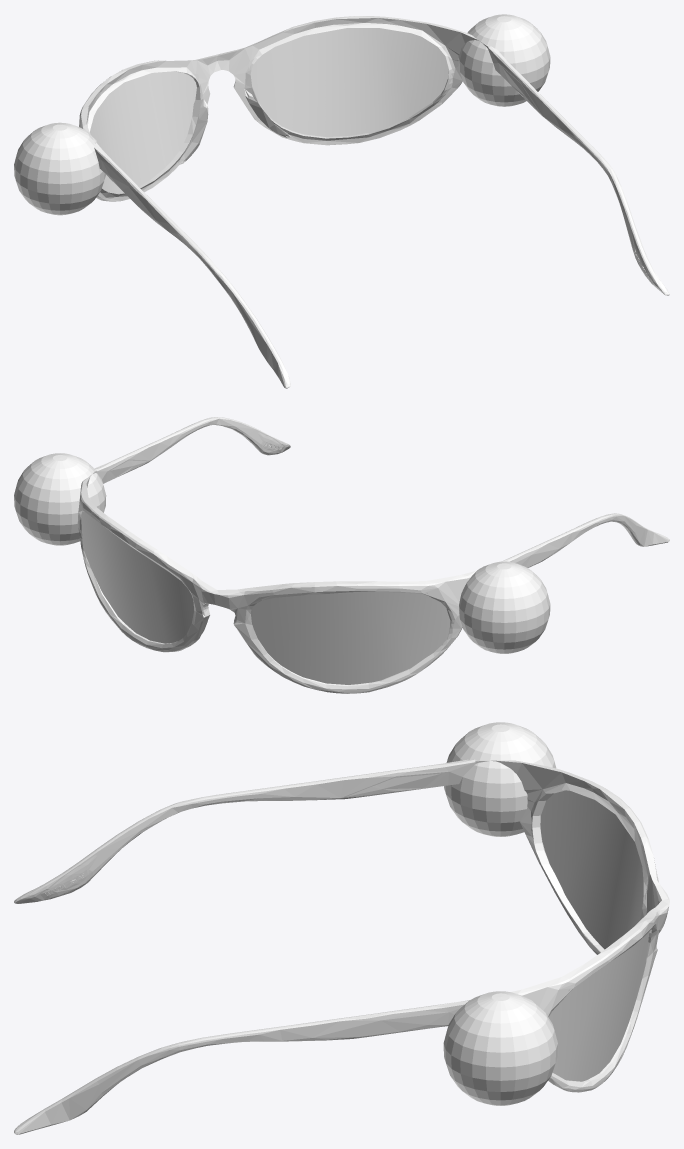
File: glasses.obj
3 renders of one model, top to bottom at view 1: azimuth 30°, elevation 25°; view 2: azimuth 150°, elevation 25°; view 3: azimuth 270°, elevation 25°, orthographic. The views are drawn at different scales.
Visible parts, largest first — view 1: polySurface1; view 2: polySurface1; view 3: polySurface1.
Boxes of the visible parts, x1=… form: polySurface1: x1=14, y1=14, x2=669, y2=388; polySurface1: x1=14, y1=417, x2=669, y2=693; polySurface1: x1=14, y1=722, x2=669, y2=1134.
Bounding box in the file's own units: 0.7828 × 0.1801 × 0.684.
1 material, 1 textured.
